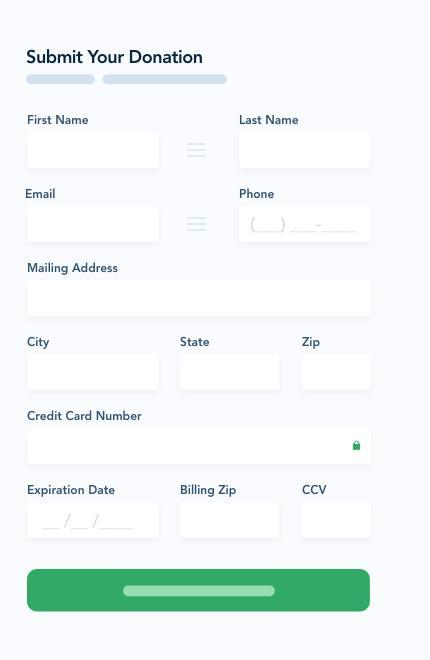button: (27, 569, 372, 614)
input: (30, 430, 372, 466), (26, 284, 376, 318), (24, 206, 156, 246), (240, 206, 375, 245), (31, 130, 158, 171), (238, 133, 376, 170), (28, 499, 161, 536), (24, 357, 156, 389), (183, 502, 281, 539), (183, 356, 283, 388), (298, 505, 374, 538), (303, 356, 374, 391)
label: (26, 49, 214, 70), (23, 406, 149, 424), (21, 262, 136, 276), (26, 482, 117, 498), (179, 480, 242, 501), (21, 112, 92, 130), (238, 114, 302, 131), (179, 334, 220, 356), (236, 188, 284, 206), (296, 335, 330, 353), (26, 187, 66, 202), (304, 484, 341, 500), (22, 335, 57, 351)
